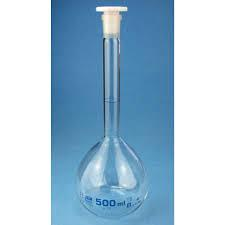Volumetric flask: (61, 1, 153, 219)
